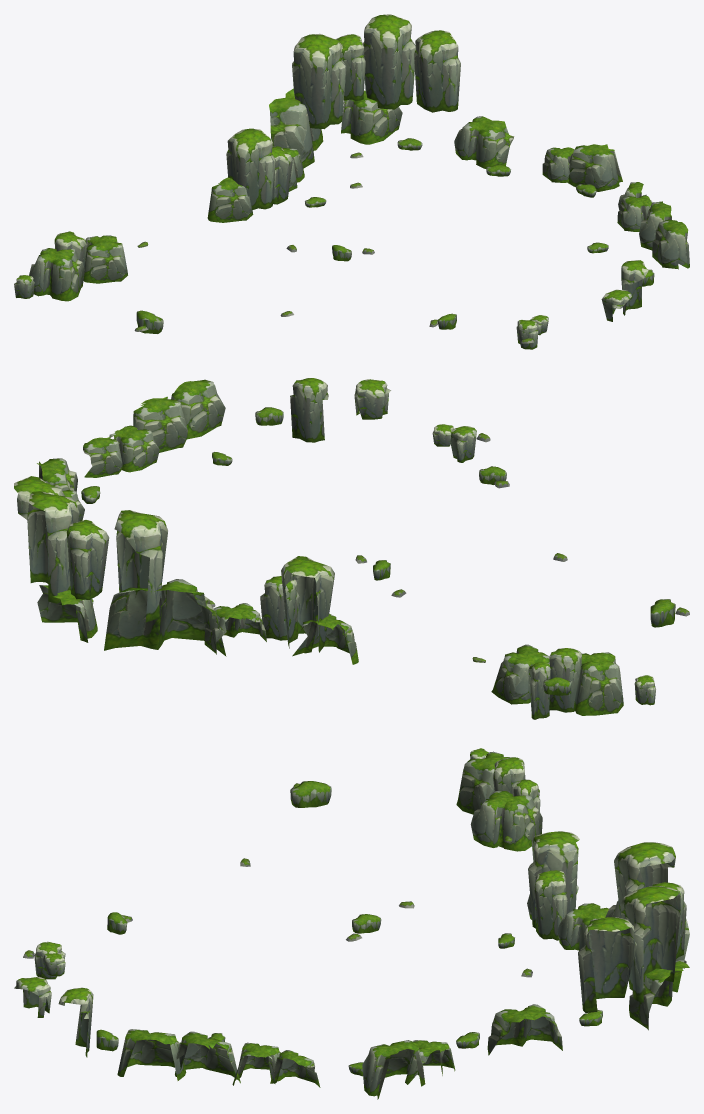
The model's file is lvyanshi_07.fbx.
The picture shows the model from 3 angles, top to bottom: view 1: azimuth 30°, elevation 25°; view 2: azimuth 150°, elevation 25°; view 3: azimuth 270°, elevation 25°; orthographic projection. The views are drawn at different scales.
Parts seen in each view (by area): view 1: polySurface302; view 2: polySurface302; view 3: polySurface302.
Boxes of the visible parts, x1,y1,x2,y2 form: polySurface302: (14, 14, 689, 349); polySurface302: (14, 378, 689, 719); polySurface302: (14, 748, 689, 1099).
Size of the model in its own units: 13643 by 3079 by 11437.
